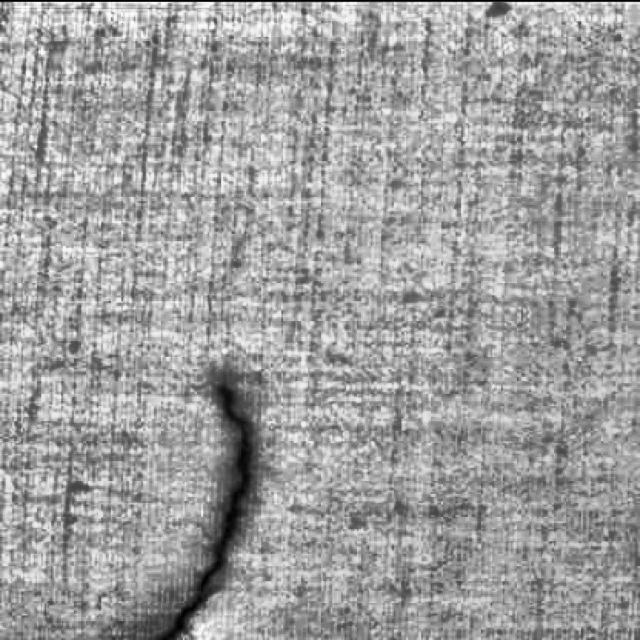objects: (132, 371, 263, 640)
